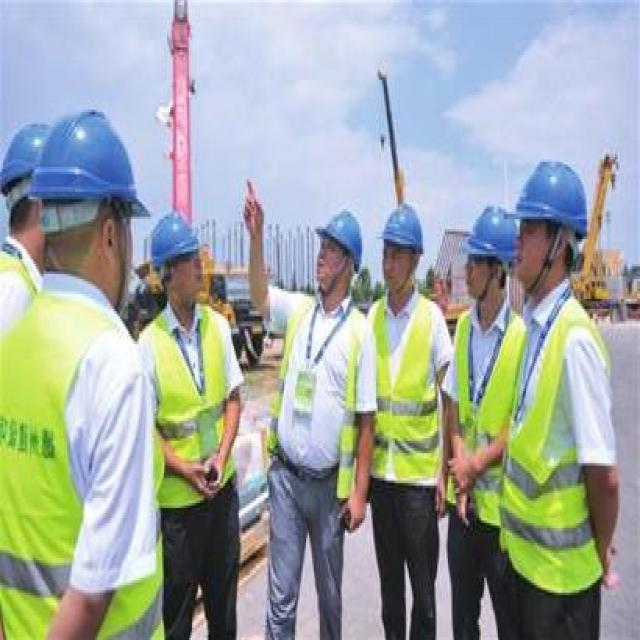Reflective-Jacket: (11, 291, 135, 628), (501, 296, 606, 583), (148, 309, 233, 505), (368, 291, 444, 488)
Safety-Helmet: (28, 100, 142, 209), (512, 155, 588, 229), (0, 117, 53, 192), (462, 204, 517, 259), (147, 209, 200, 264), (315, 206, 362, 256), (378, 202, 424, 249)
